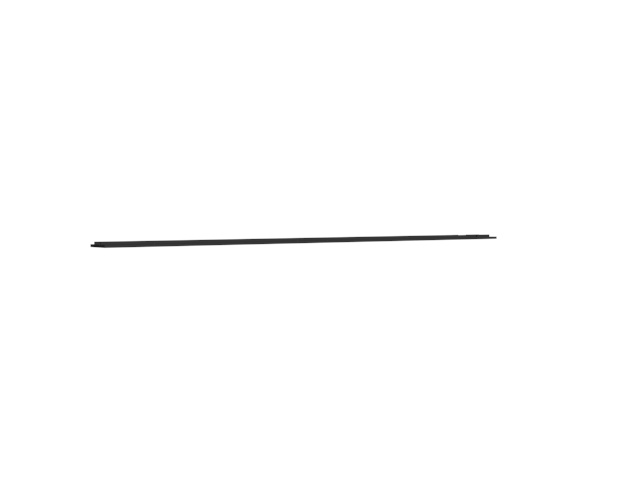ruler: (89, 233, 504, 250)
